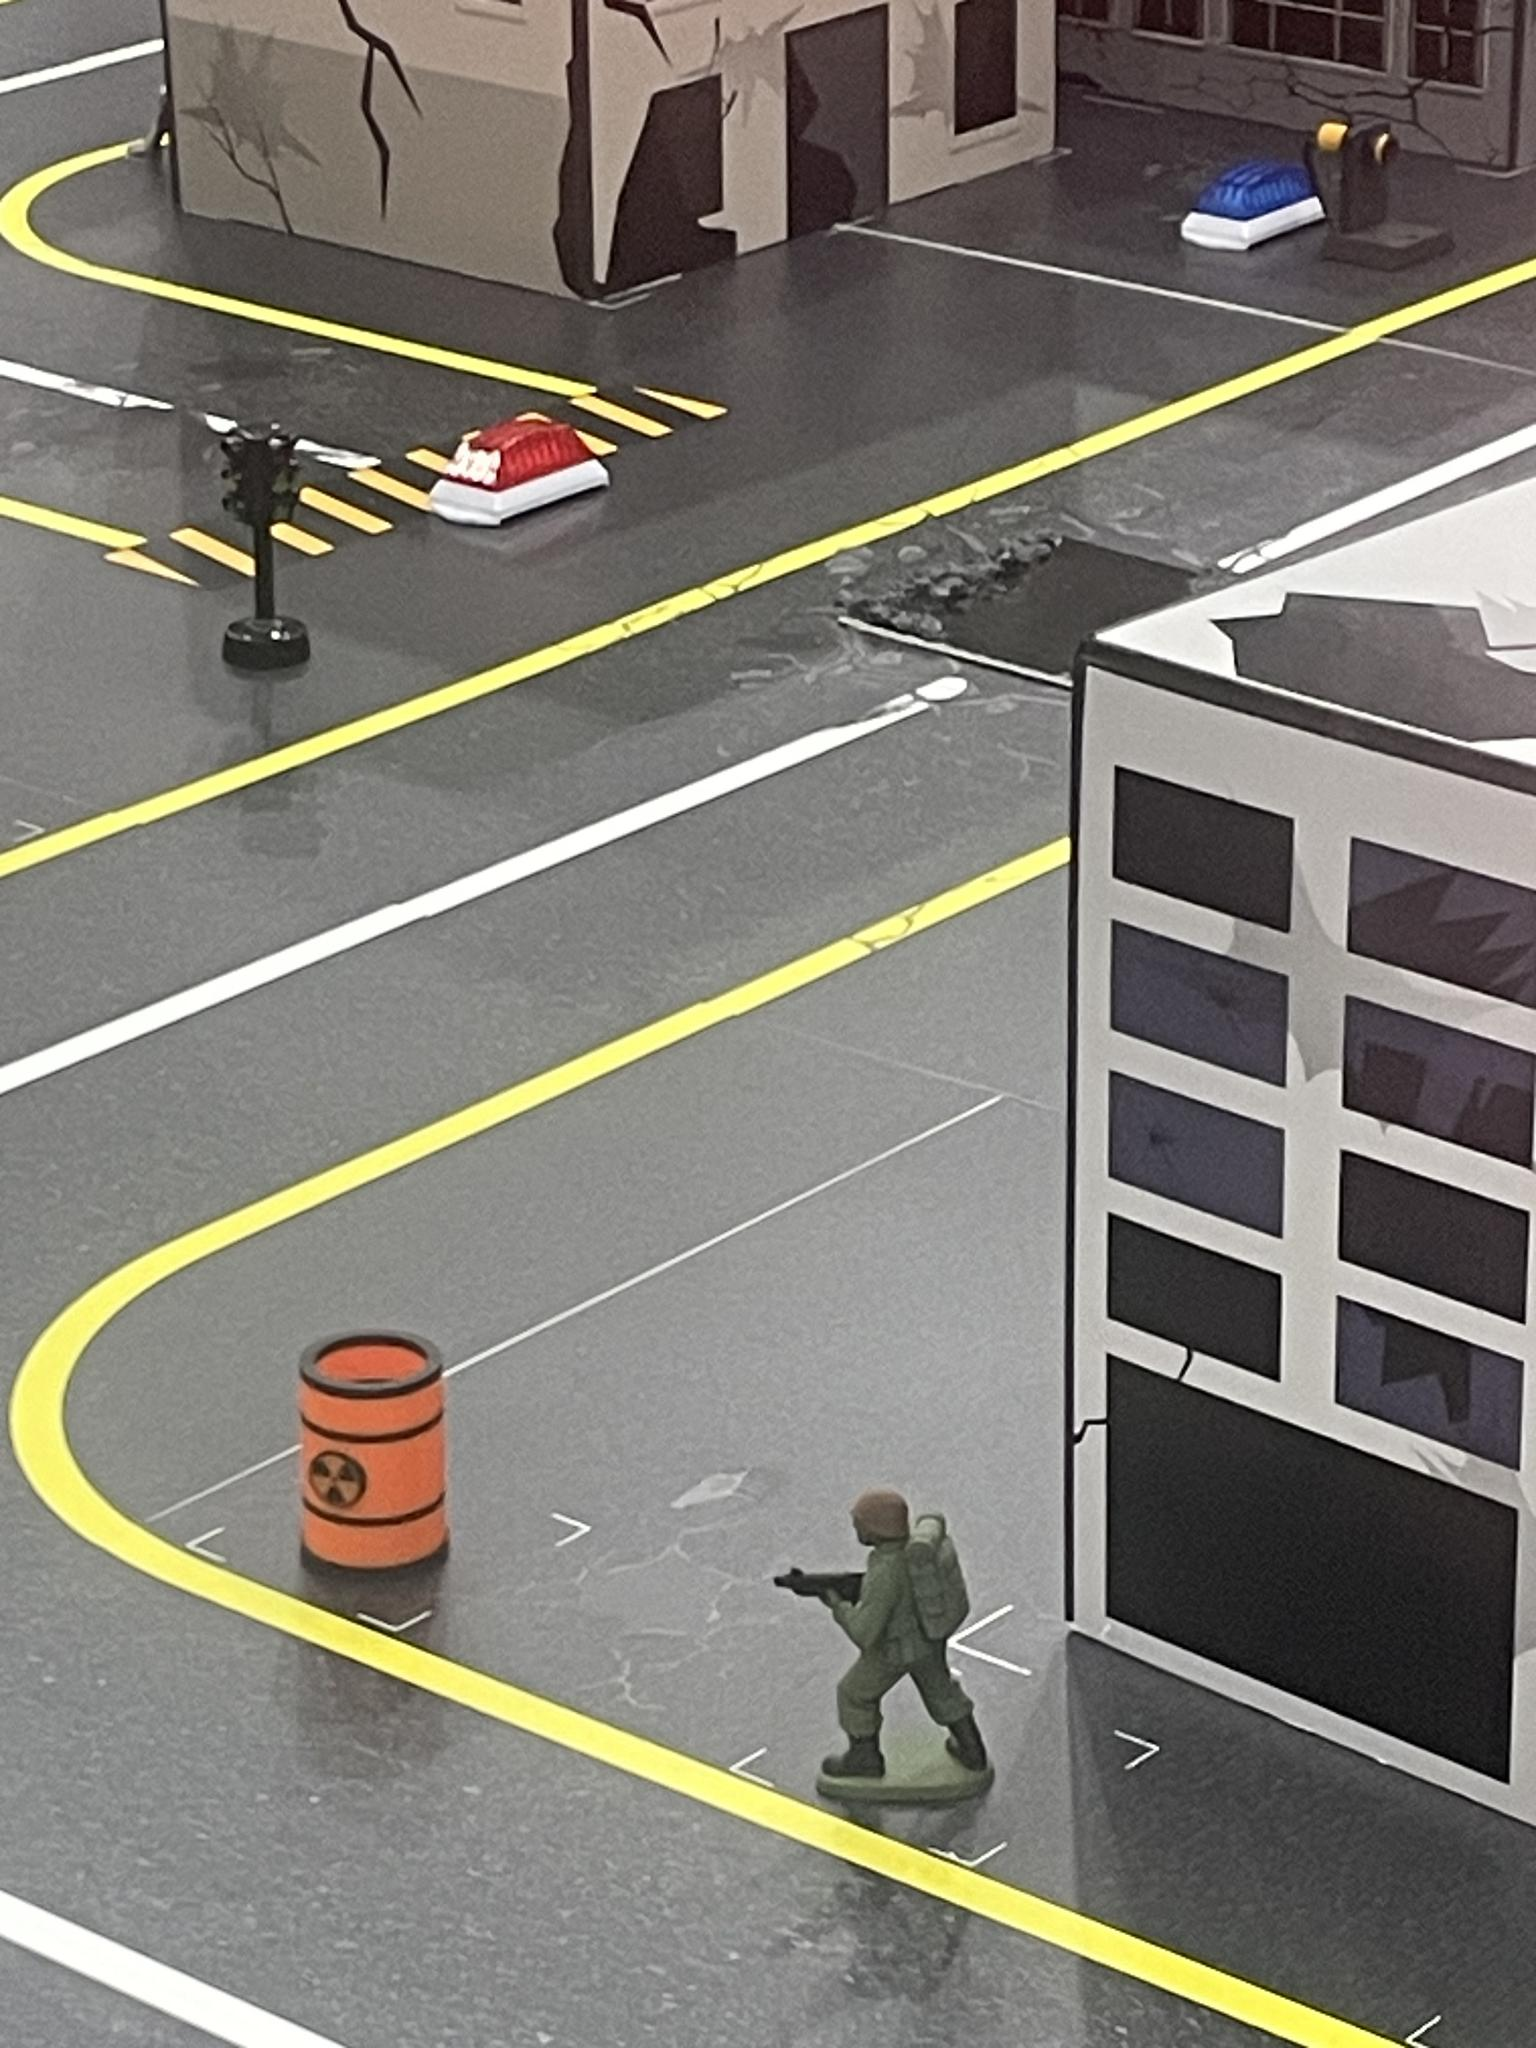Enemy: (778, 1496, 1008, 1811)
Hazmat: (292, 1330, 455, 1590)
